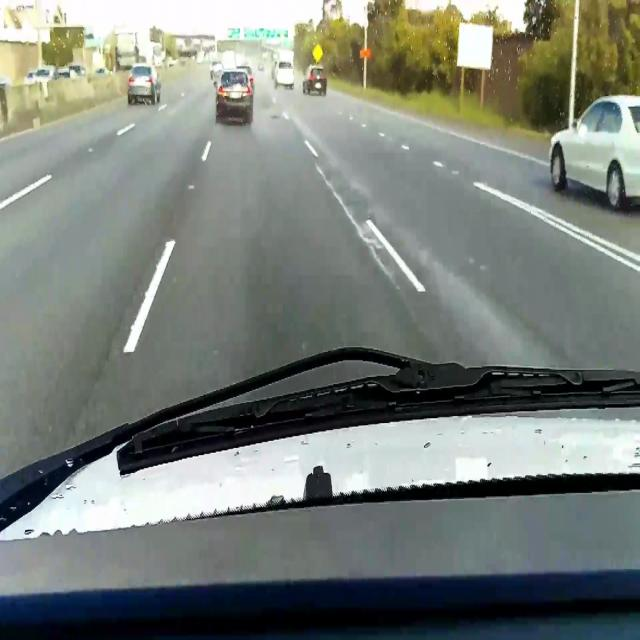Pothole: (270, 115, 280, 119)
